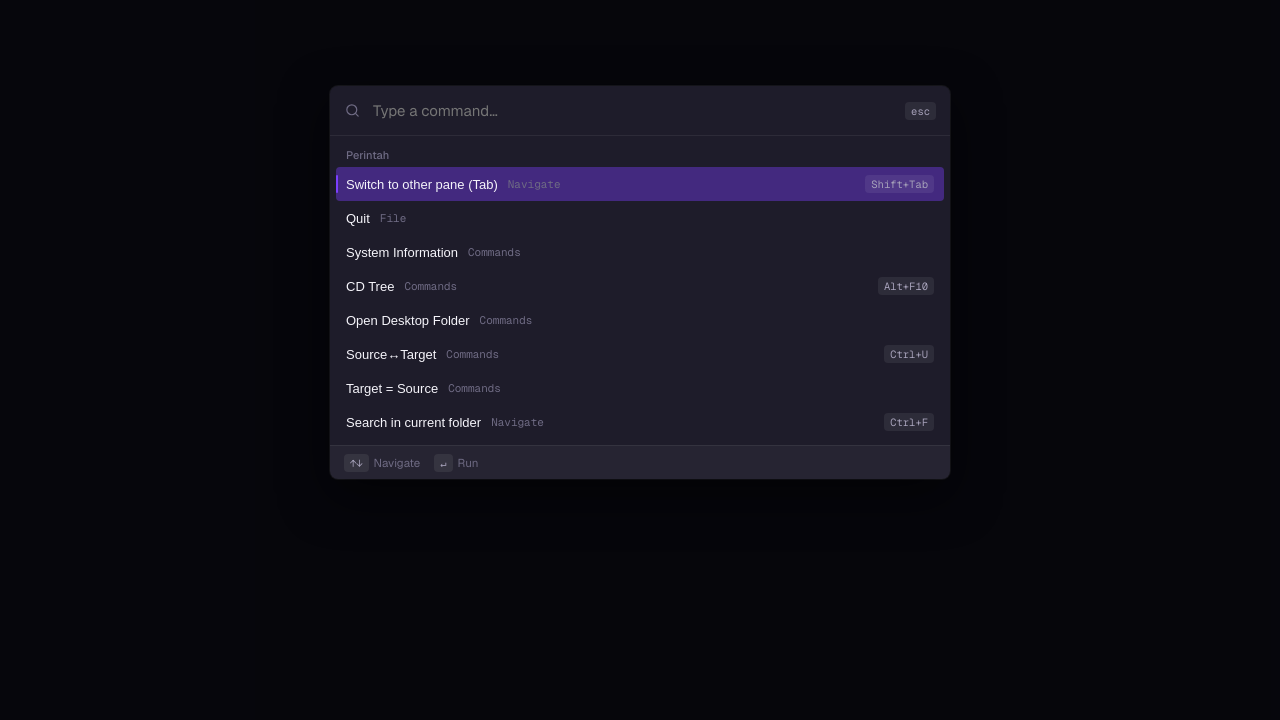
match reasons (FER-254) › shows a short Indonesian reason per ReasonCode and keeps a11y roles
Type "rep" into the dropdown at x=633, y=111, box [371,100,895,122]
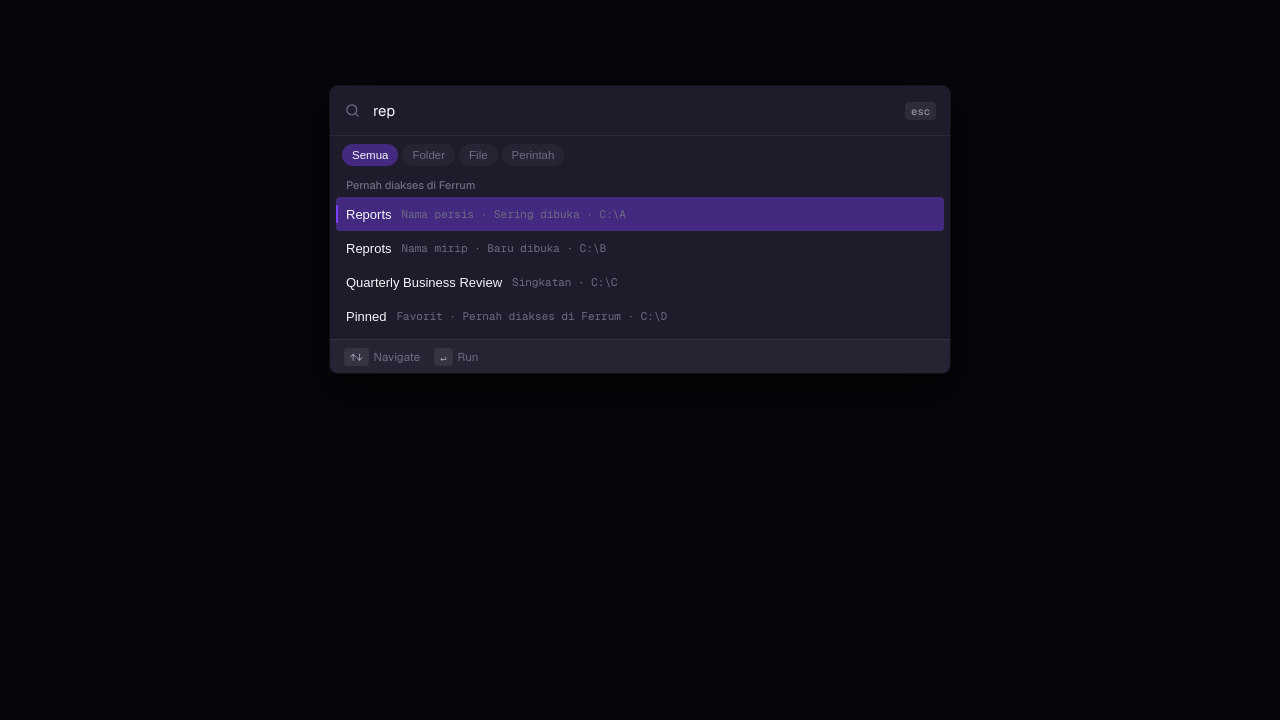
Result: the option "Reports Nama persis · Sering dibuka · C:\\A" is shown at [336,197,944,231]
Result: the text with class "sub" shows "Nama persis · Sering dibuka" at [402,207,626,221]
Result: the text with class "sub" shows "Nama mirip · Baru dibuka" at [402,241,606,255]
